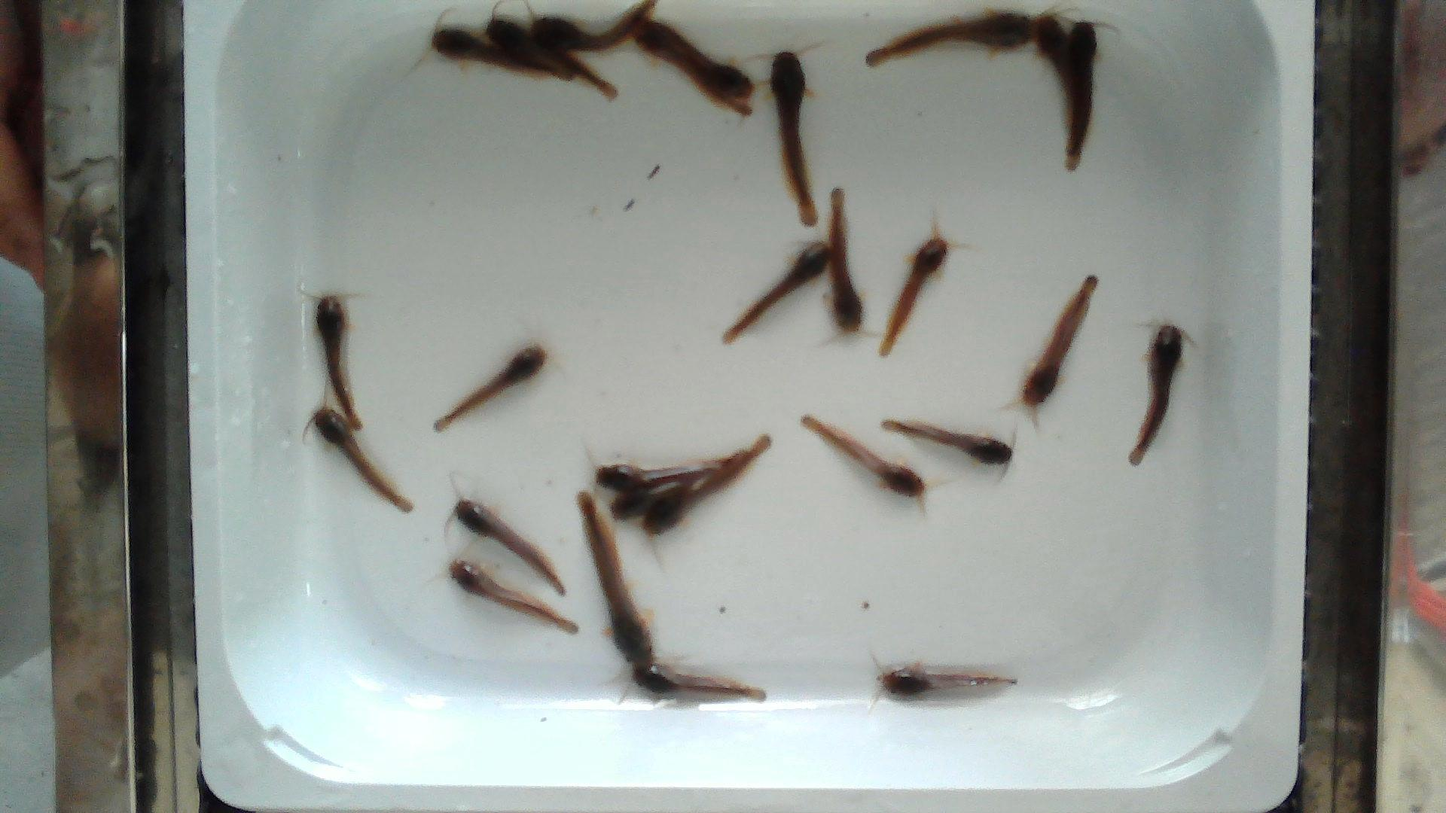lele: (578, 492, 655, 678), (642, 434, 768, 535), (484, 19, 619, 101), (635, 26, 752, 117), (454, 499, 564, 595), (725, 241, 828, 342), (313, 408, 414, 511), (1022, 276, 1097, 410), (802, 417, 924, 498), (642, 19, 755, 102), (435, 346, 545, 430), (450, 560, 578, 632), (866, 11, 1035, 65), (880, 228, 949, 355), (770, 52, 817, 226), (425, 27, 572, 82), (1130, 325, 1182, 464), (313, 294, 366, 430), (531, 2, 654, 51), (882, 421, 1012, 464), (609, 469, 718, 520), (827, 189, 862, 333), (1030, 14, 1072, 132), (633, 663, 765, 698), (1068, 18, 1098, 171), (879, 663, 1016, 696), (592, 460, 727, 492)
